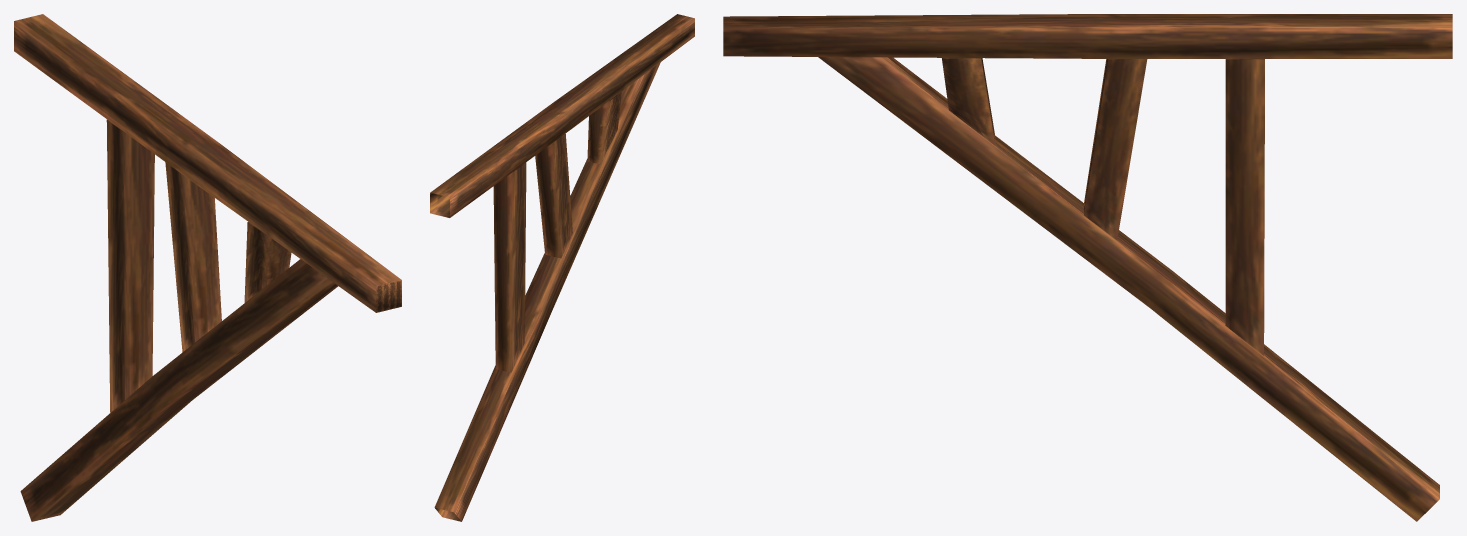
The model's file is INST_SWORDLIGHT_TRACKBRACKD.fbx.
3 renders of one model, left to right at view 1: azimuth 30°, elevation 25°; view 2: azimuth 150°, elevation 25°; view 3: azimuth 270°, elevation 25°, orthographic. The views are drawn at different scales.
Visible parts, largest first — view 1: INST_SWORDLIGHT_TRACKBRACKD; view 2: INST_SWORDLIGHT_TRACKBRACKD; view 3: INST_SWORDLIGHT_TRACKBRACKD.
Boxes of the visible parts, x1,y1,x2,y2 form: INST_SWORDLIGHT_TRACKBRACKD: (14,14,401,521); INST_SWORDLIGHT_TRACKBRACKD: (430,14,694,521); INST_SWORDLIGHT_TRACKBRACKD: (723,14,1452,521).
Bounding box in the file's own units: 4596 × 73827 × 98791.
1 material, 1 textured.
